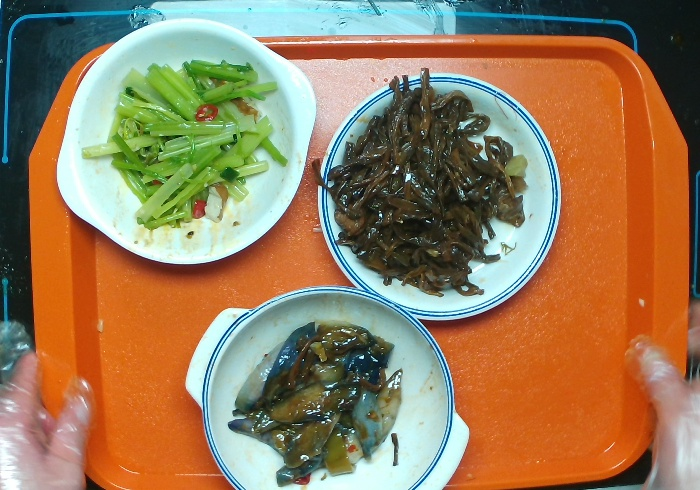HZYJPL-Dai_Er_Bai_Yuan_Wan: (55, 16, 318, 263)
HZYJPL-Lan_Bian_Dai_Er_Wan: (181, 283, 467, 490)
HZYJPL-Lan_Bian_Yuan_Die: (316, 70, 563, 318)
